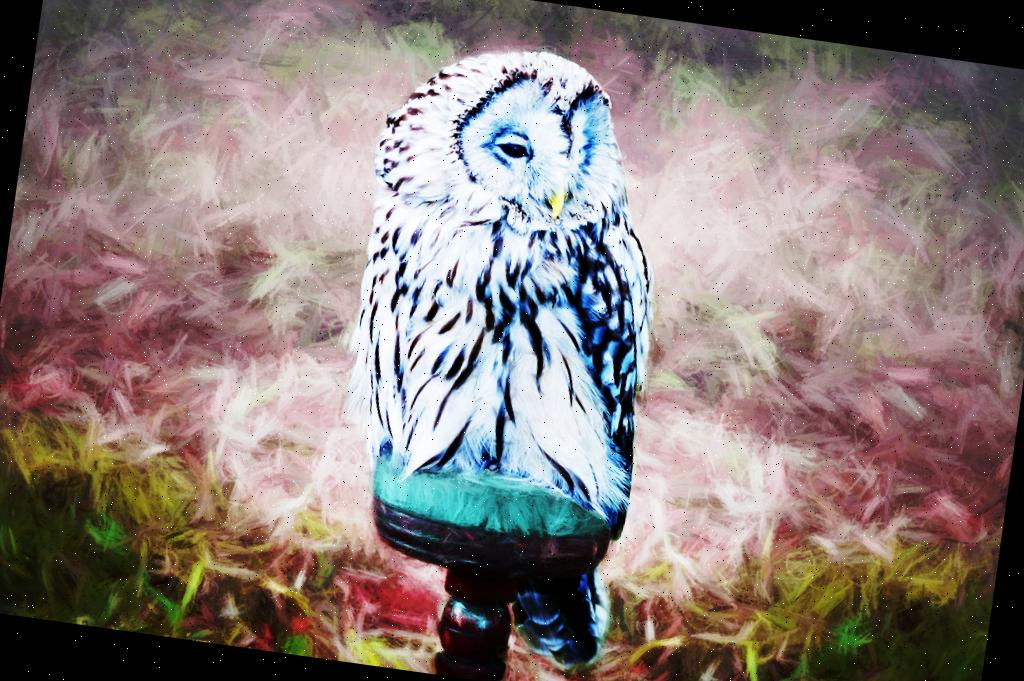Owl: (319, 27, 692, 604)
